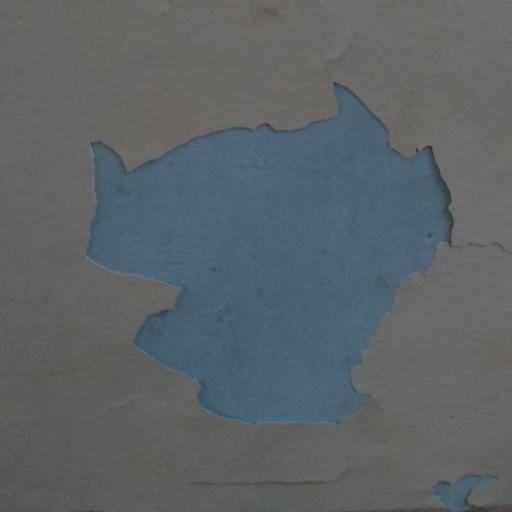peeling: (58, 62, 466, 406), (420, 450, 498, 512)
